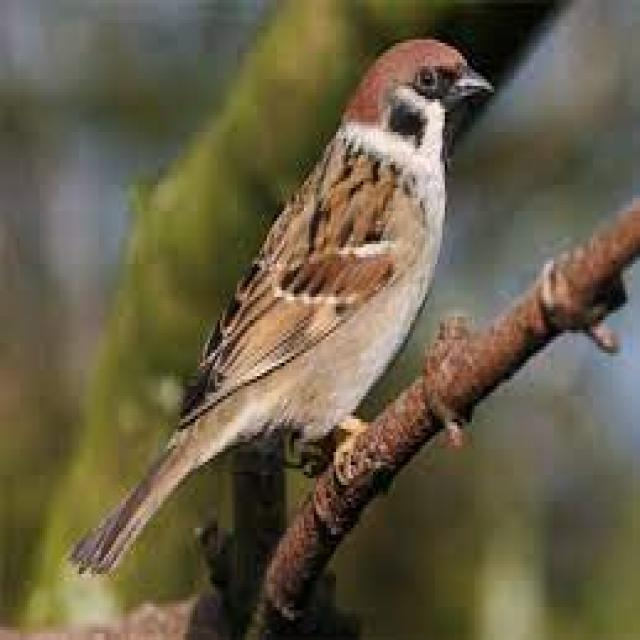bird: (59, 38, 494, 577)
